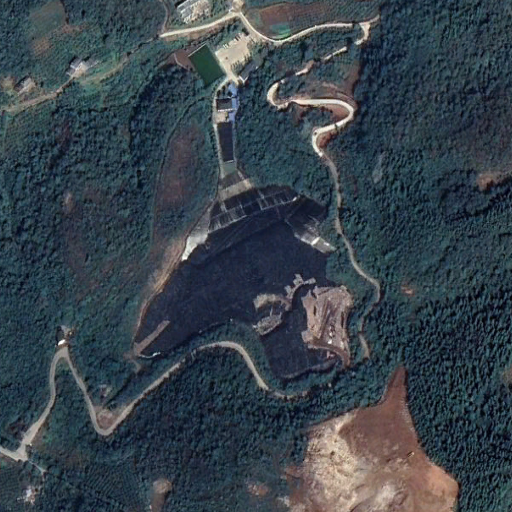lf: (129, 172, 364, 395)
